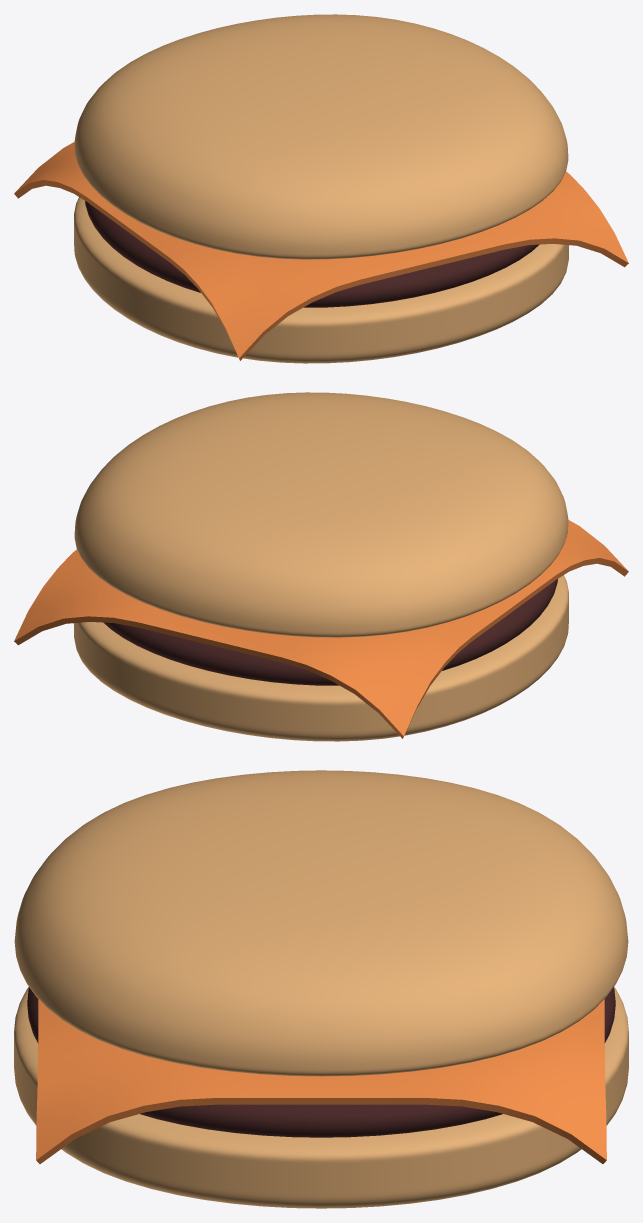
File: hamburger.glb
The picture shows the model from 3 angles, top to bottom: view 1: azimuth 30°, elevation 25°; view 2: azimuth 150°, elevation 25°; view 3: azimuth 270°, elevation 25°; orthographic projection. The views are drawn at different scales.
Parts seen in each view (by area): view 1: Cube.002, Cube, Plane.001, Cube.001; view 2: Cube.002, Cube, Plane.001, Cube.001; view 3: Cube.002, Cube, Plane.001, Cube.001.
Boxes of the visible parts, x1,y1,x2,y2 form: Cube.002: (74, 14, 568, 259); Cube: (74, 197, 568, 363); Plane.001: (14, 142, 628, 360); Cube.001: (85, 201, 538, 307); Cube.002: (74, 392, 568, 637); Cube: (74, 575, 568, 741); Plane.001: (14, 520, 628, 738); Cube.001: (104, 579, 557, 685); Cube.002: (14, 770, 628, 1076); Cube: (14, 987, 628, 1208); Plane.001: (36, 999, 606, 1163); Cube.001: (27, 987, 615, 1137).
Size of the model in its own units: 9.18 by 4.14 by 9.18.
